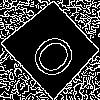O: (26, 23, 87, 84)
